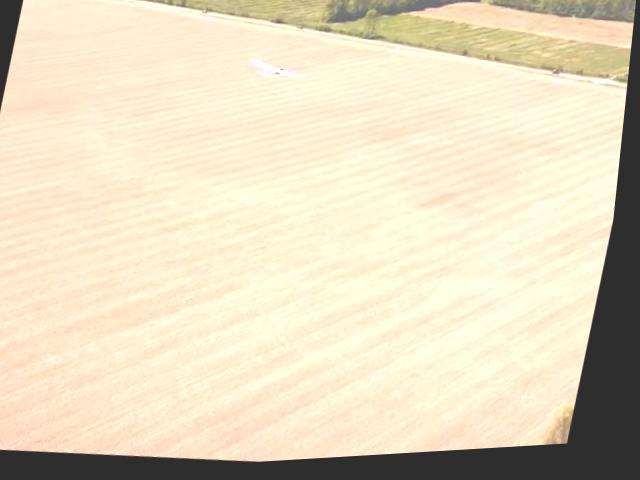iha: (250, 58, 310, 87)
